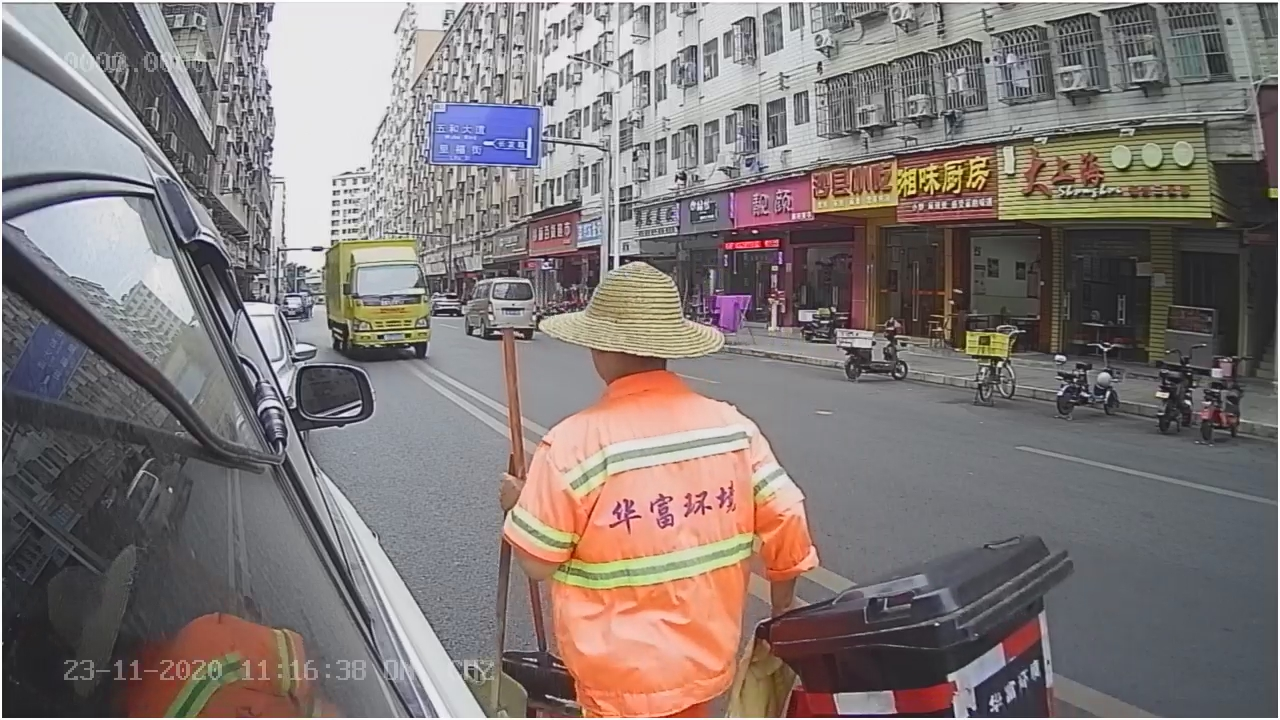person: (520, 254, 817, 607)
